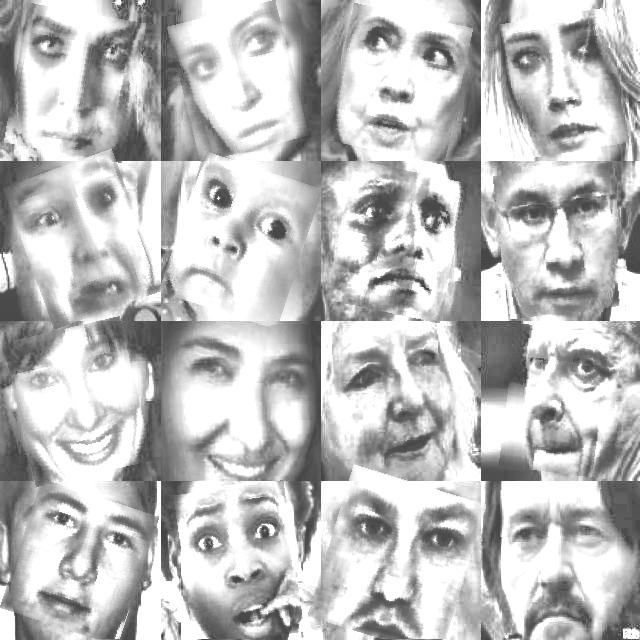angry: (317, 472, 476, 640), (332, 9, 466, 160), (332, 165, 463, 318), (10, 8, 140, 158), (496, 488, 617, 640), (503, 326, 619, 476)
fear: (169, 159, 313, 323), (14, 156, 152, 322), (174, 5, 302, 156), (178, 483, 299, 640)
happy: (171, 325, 315, 480), (10, 322, 146, 482)
neutral: (9, 487, 151, 639), (497, 166, 627, 316), (503, 11, 624, 156)
sad: (333, 327, 460, 475)
